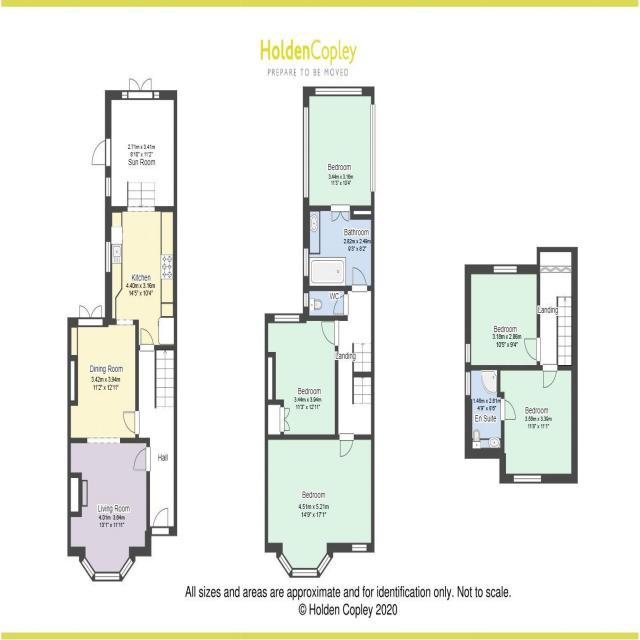DOOR: (91, 137, 112, 167), (132, 445, 151, 473), (152, 506, 169, 537), (320, 320, 340, 346), (522, 337, 542, 361), (541, 363, 558, 391), (351, 264, 367, 293), (499, 398, 518, 421), (122, 410, 140, 434), (339, 432, 355, 459), (332, 293, 350, 316), (139, 327, 154, 352)
DOUBLE DOOR: (128, 76, 153, 101), (329, 203, 351, 223)
ROOM: (264, 434, 376, 580), (67, 437, 152, 583), (89, 77, 179, 214), (104, 205, 179, 353), (301, 86, 377, 223), (67, 304, 140, 445), (496, 363, 579, 486), (264, 313, 339, 442), (464, 264, 541, 372)
WINDOW: (302, 106, 310, 199), (369, 103, 376, 194), (314, 85, 362, 98), (316, 551, 333, 577), (512, 472, 543, 486), (277, 552, 294, 577), (119, 555, 135, 581), (80, 555, 96, 581), (291, 566, 318, 579), (95, 570, 120, 583), (493, 263, 518, 276), (274, 312, 300, 324), (86, 437, 121, 445), (104, 241, 112, 273), (302, 247, 310, 278), (463, 370, 472, 397), (463, 342, 472, 365), (351, 541, 368, 553), (104, 176, 112, 197), (302, 291, 310, 308), (116, 319, 134, 326), (121, 89, 129, 101), (153, 89, 160, 101)
